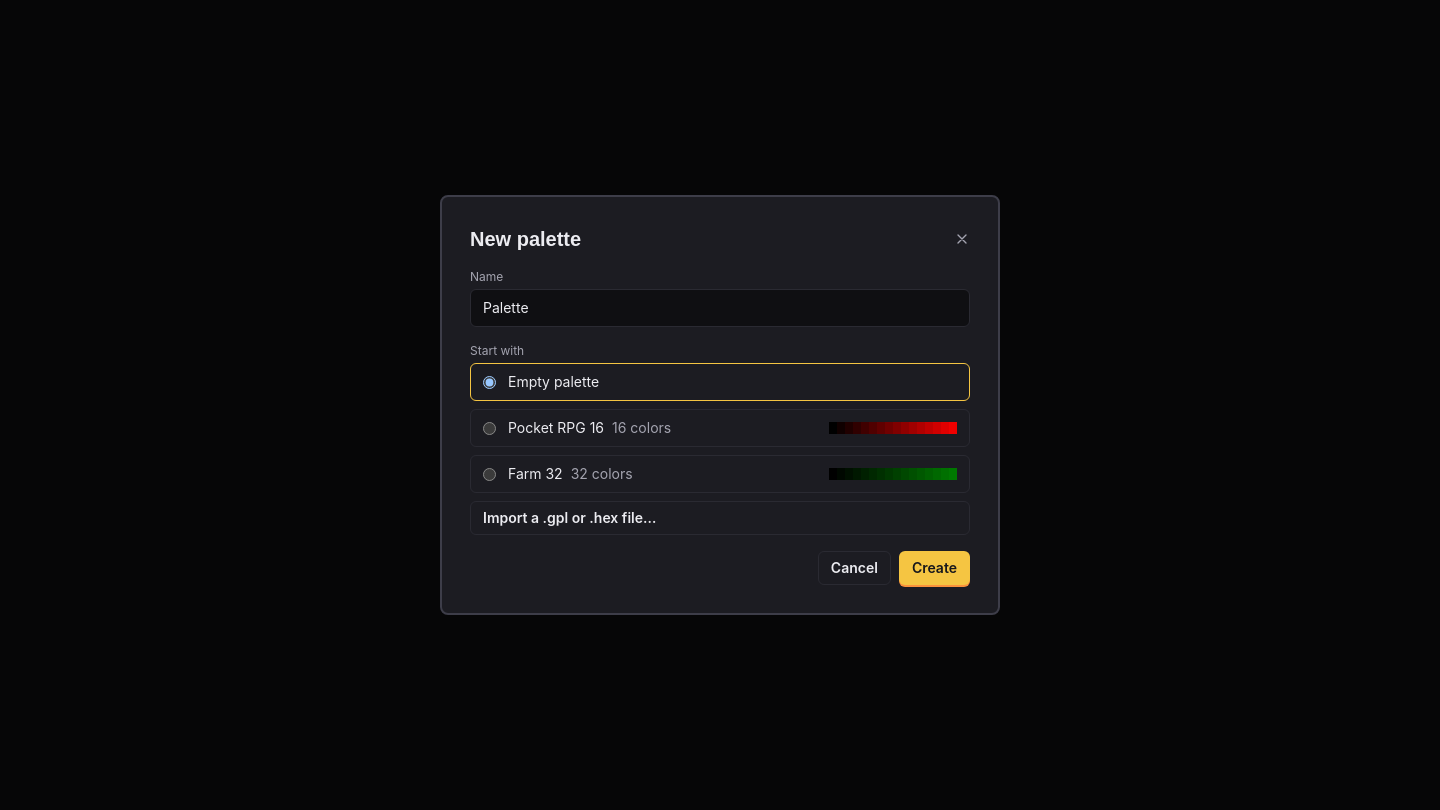
Scenario: New palette dialog › goes back to a preset after a file, and ignores a cancelled picker
This screenshot has width=1440, height=810.
Later steps or results of the test are not shown.
Click the button "Import a .gpl or .hex file…".
click(570, 518)  # box [470, 501, 970, 535]
Check: the radio button labelled "Empty palette" is checked, box [483, 376, 496, 388]
Click the button "Import a .gpl or .hex file…".
click(570, 518)  # box [470, 501, 970, 535]
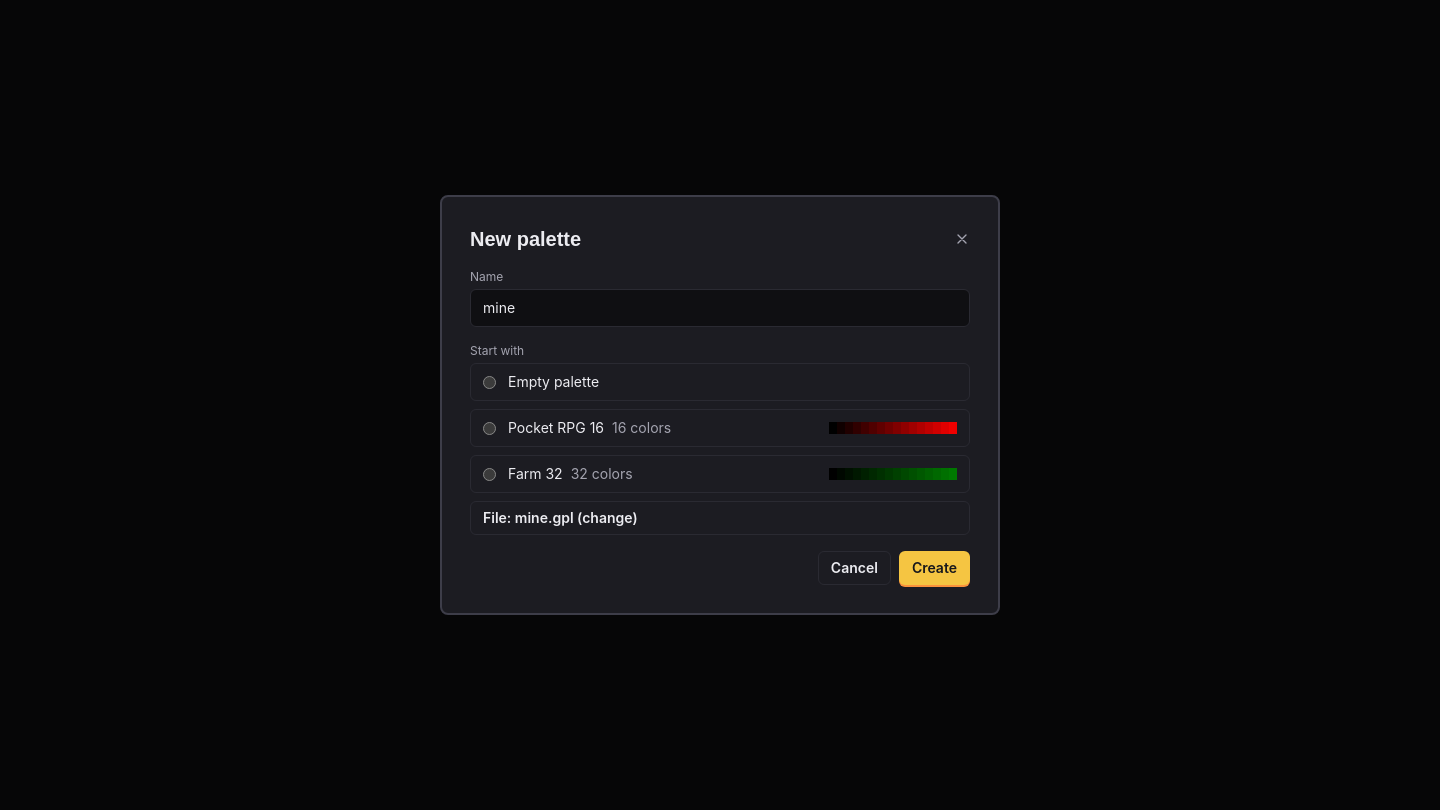
Check: the button "File: mine.gpl (change)" is shown, box [470, 501, 970, 535]
